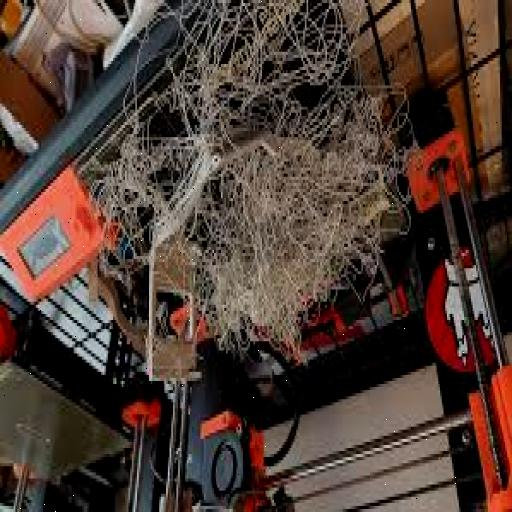spaghetti: (91, 40, 392, 366)
